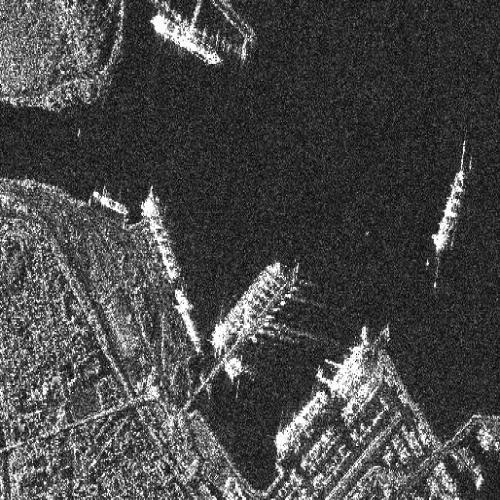ship: (210, 259, 283, 359), (150, 13, 223, 65), (142, 190, 181, 284), (274, 389, 326, 456), (431, 169, 465, 254), (174, 288, 202, 357), (91, 192, 129, 216)
